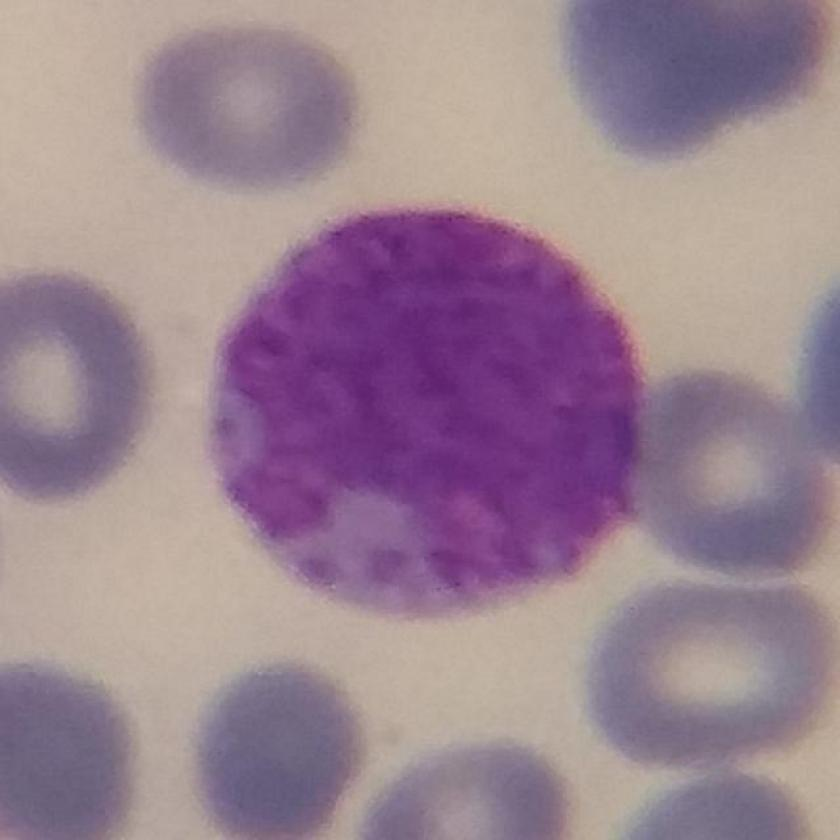basophil: (202, 203, 649, 621)
